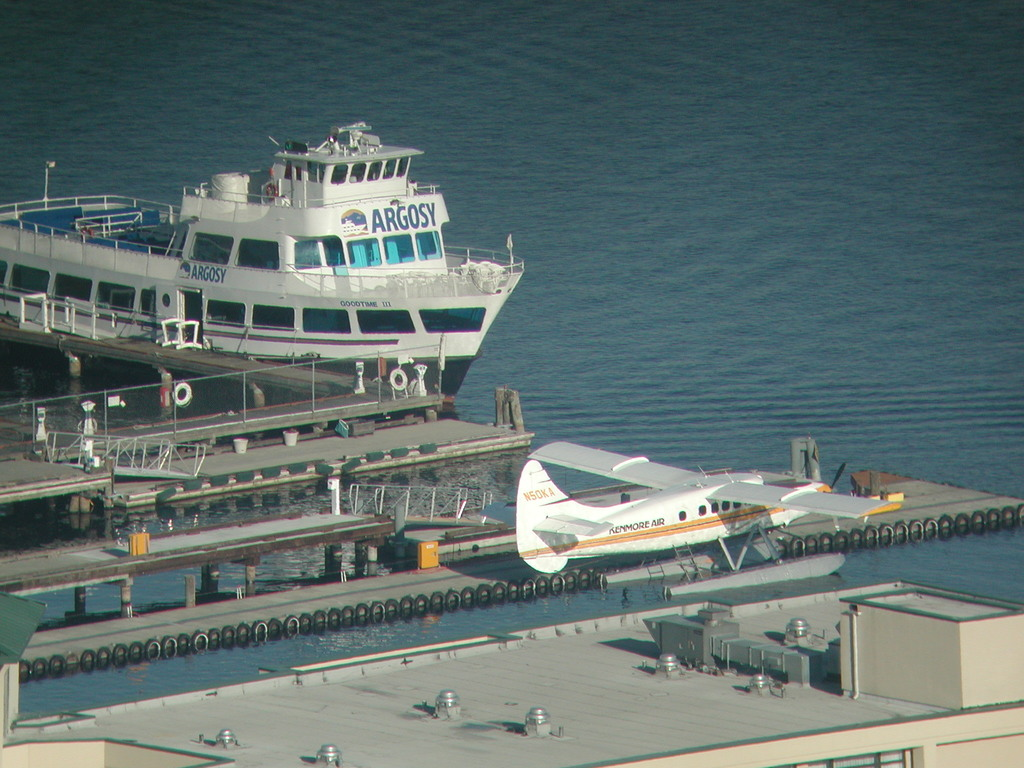boat: (1, 98, 533, 423)
